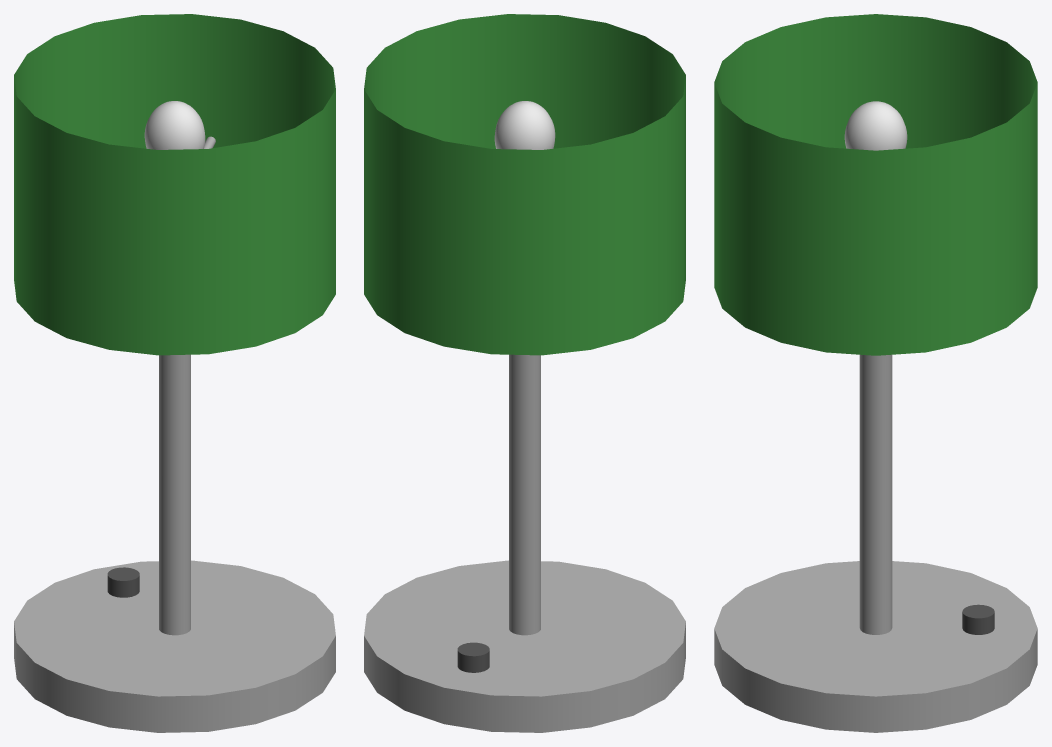
The model's file is LampeDeBureau.fbx.
The picture shows the model from 3 angles, left to right: view 1: azimuth 30°, elevation 25°; view 2: azimuth 150°, elevation 25°; view 3: azimuth 270°, elevation 25°; orthographic projection.
Visible parts, largest first — view 1: pCylinder3, pCylinder1, pCylinder2, pSphere1, pCylinder9; view 2: pCylinder3, pCylinder1, pCylinder2, pSphere1, pCylinder9; view 3: pCylinder3, pCylinder1, pCylinder2, pSphere1, pCylinder9.
Boxes of the visible parts, x1=… form: pCylinder3: x1=14, y1=14, x2=335, y2=355; pCylinder1: x1=14, y1=560, x2=335, y2=732; pCylinder2: x1=159, y1=354, x2=190, y2=635; pSphere1: x1=144, y1=101, x2=205, y2=149; pCylinder9: x1=107, y1=567, x2=139, y2=597; pCylinder3: x1=364, y1=14, x2=685, y2=355; pCylinder1: x1=364, y1=560, x2=685, y2=732; pCylinder2: x1=509, y1=354, x2=540, y2=635; pSphere1: x1=494, y1=101, x2=555, y2=149; pCylinder9: x1=457, y1=642, x2=489, y2=672; pCylinder3: x1=714, y1=14, x2=1037, y2=355; pCylinder1: x1=714, y1=561, x2=1037, y2=732; pCylinder2: x1=859, y1=354, x2=892, y2=634; pSphere1: x1=844, y1=101, x2=907, y2=150; pCylinder9: x1=962, y1=604, x2=994, y2=634.
Size of the model in its own units: 2 by 3.97 by 2.
